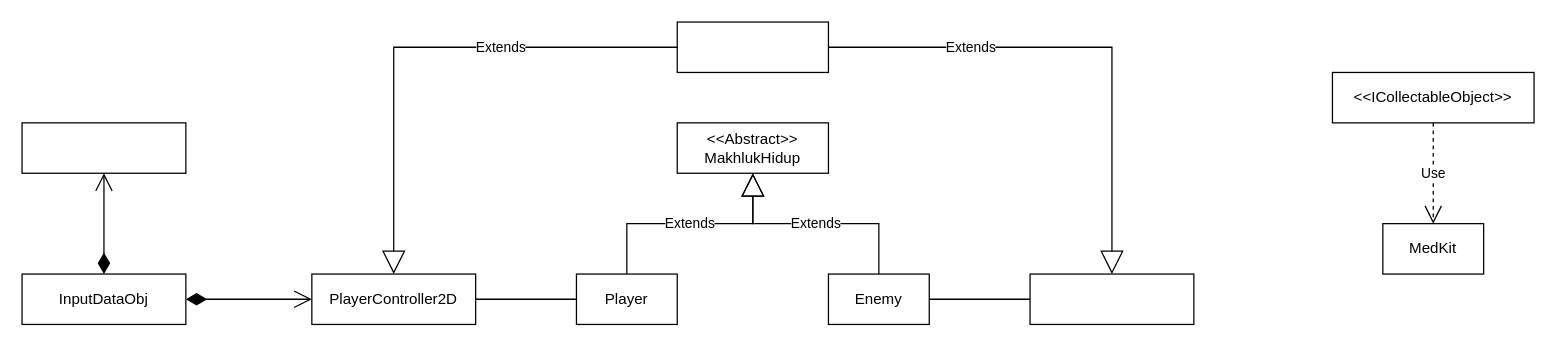
The diagram is 1556 pixels wide and 347 high, and some of its shapes have lost their labels. Each missing label, with the centre of its shape:
<<Abstract>> Controller2D: (x=752, y=46)
AIController2D: (x=1111, y=298)
InputHandler: (x=103, y=147)
